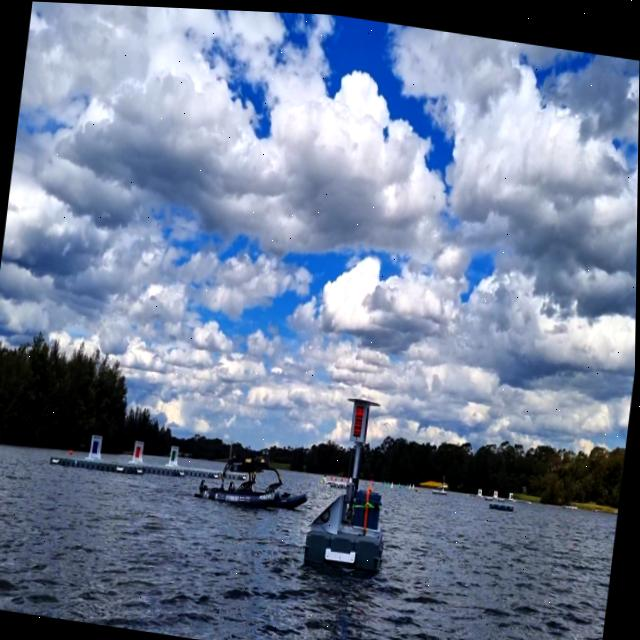led: (352, 398, 368, 436)
